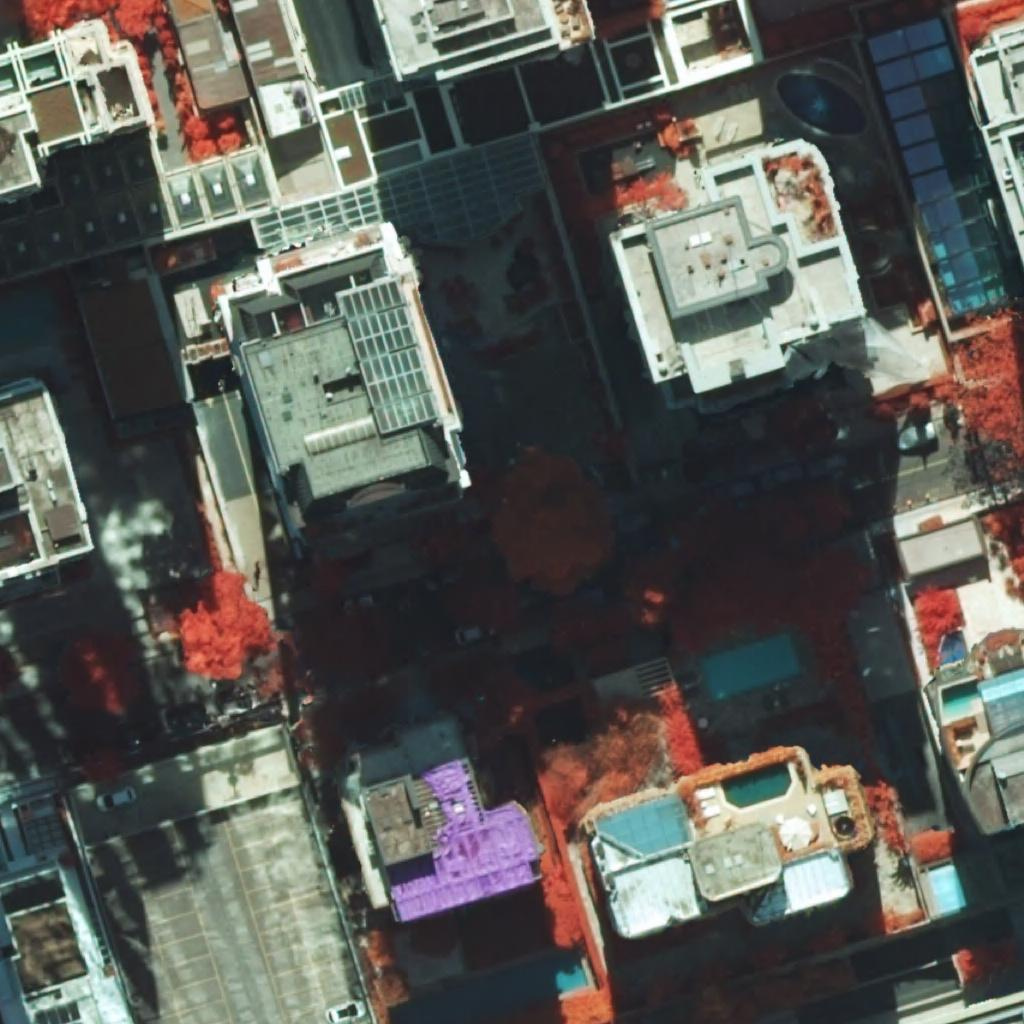pool: (389, 953, 588, 1024), (704, 633, 802, 699), (778, 74, 868, 135), (720, 761, 793, 809), (942, 679, 981, 719), (939, 631, 968, 666)
